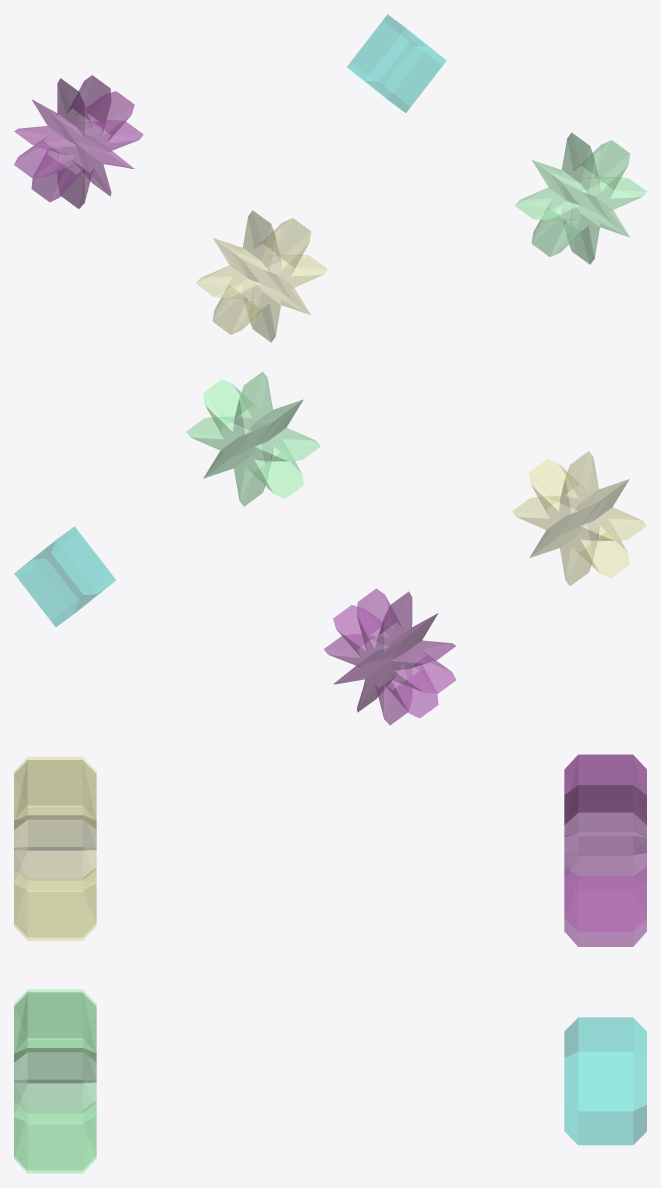
The model's file is phong_transp_mats_3_LinearExtrusionTest_2023-06-04-21-23-01.gltf.
3 renders of one model, top to bottom at view 1: azimuth 30°, elevation 25°; view 2: azimuth 150°, elevation 25°; view 3: azimuth 270°, elevation 25°, orthographic. The views are drawn at different scales.
Size of the model in its own units: 271 by 71.31 by 230.
